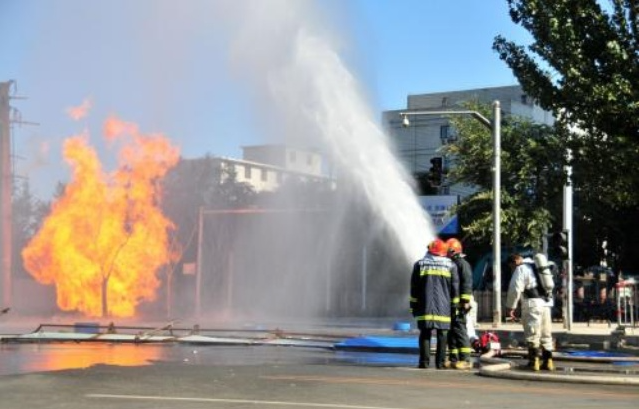喷灌水雾: (183, 0, 443, 340)
